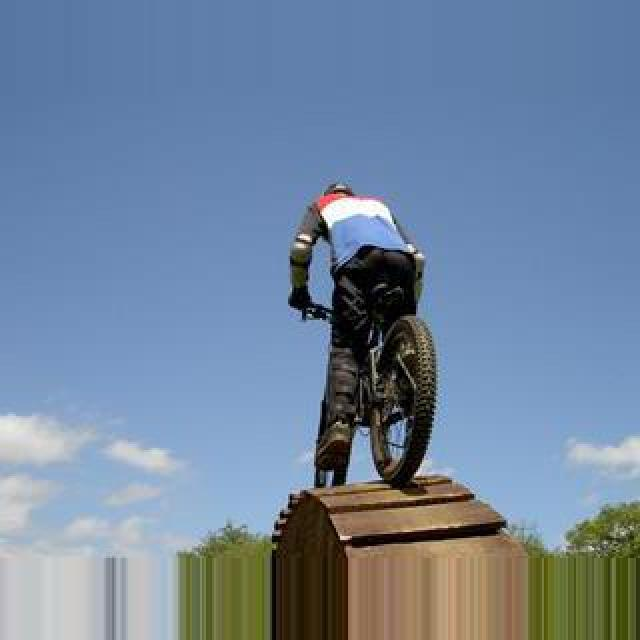MC-Bike: (286, 180, 426, 488)
Person: (308, 275, 438, 491)
